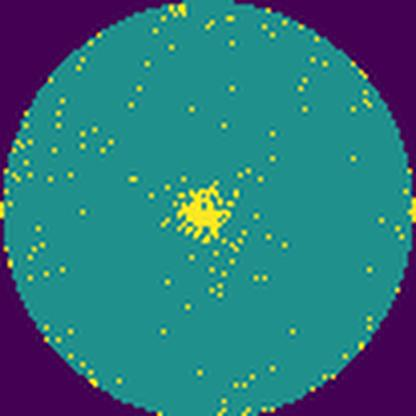Center: (173, 183, 234, 246)
